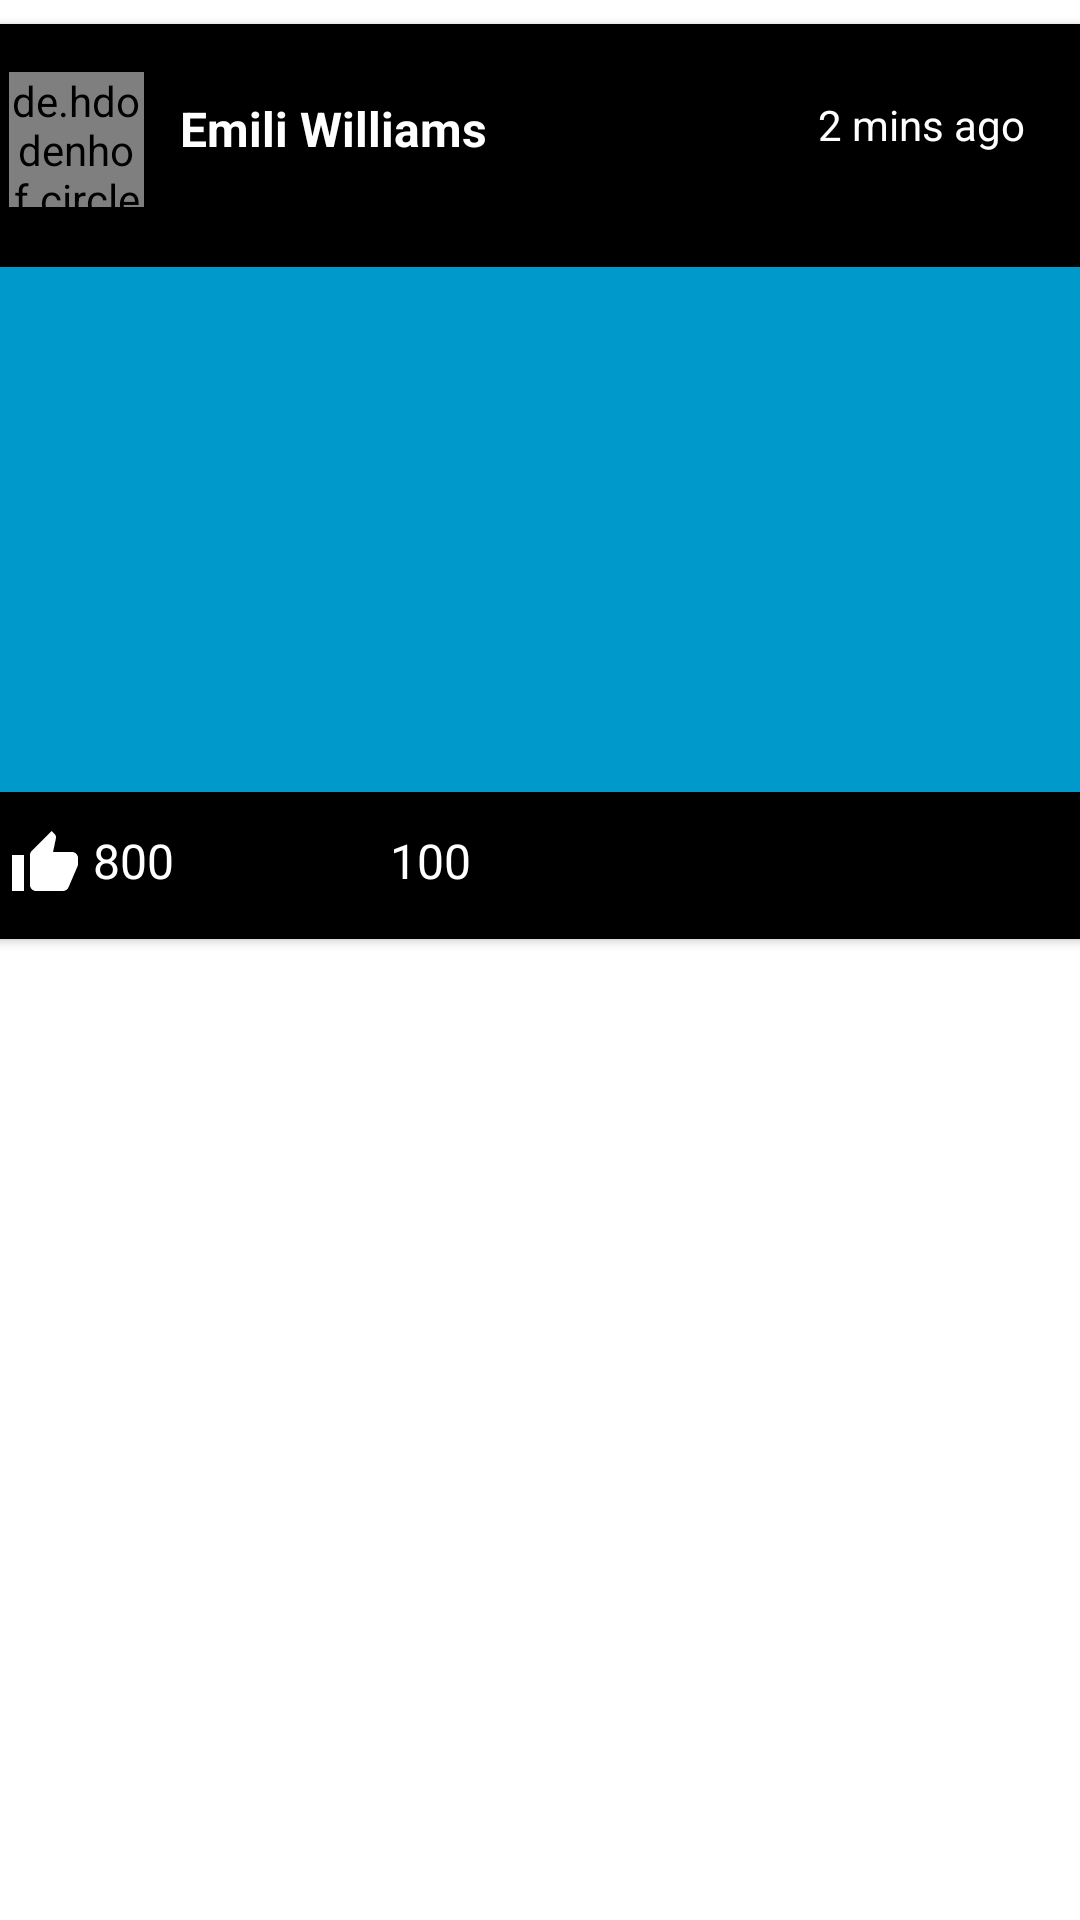

Where icons sit on this 1080 × 1920 app screen, as (x1, y1, x2, y2):
thumb up: (12, 831, 78, 891)
